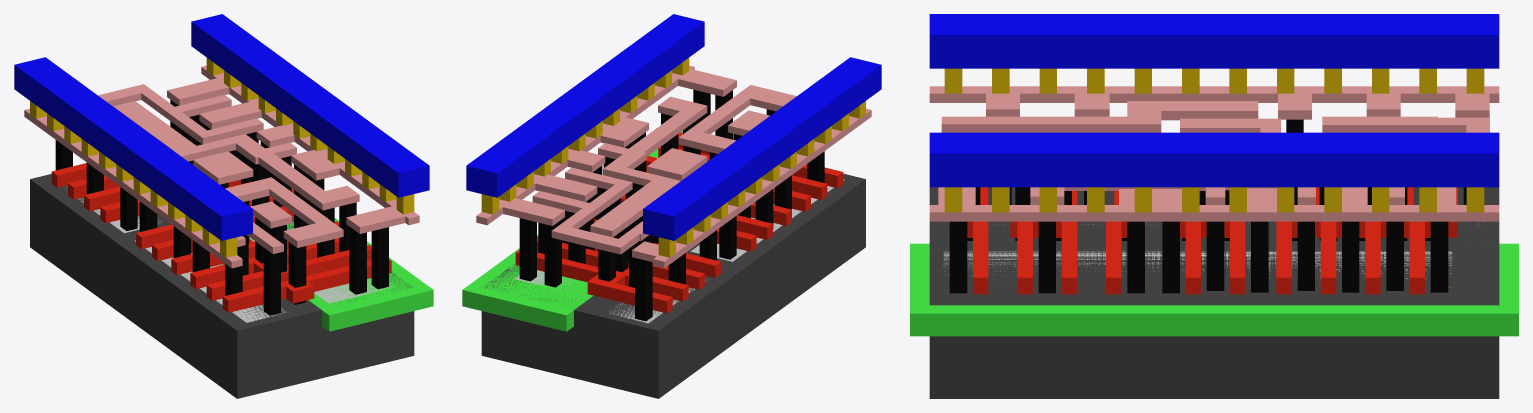
The model's file is sky130_fd_sc_hd__o21a_4.obj.
3 views of the same model, side by side, from view 1: azimuth 30°, elevation 25°; view 2: azimuth 150°, elevation 25°; view 3: azimuth 270°, elevation 25° (orthographic). The views are drawn at different scales.
Visible parts, largest first — view 1: subs, metal1, li, licon, poly, mcon, nwell, diff, tap; view 2: subs, metal1, li, licon, poly, nwell, mcon, diff; view 3: metal1, subs, li, nwell, licon, poly, mcon, tap.
Boxes of the visible parts, box(x1,y1,x2,y2) form: subs: box(30, 174, 414, 398); metal1: box(14, 14, 429, 240); li: box(24, 65, 419, 268); licon: box(55, 100, 388, 315); poly: box(51, 163, 391, 312); mcon: box(30, 58, 414, 257); nwell: box(250, 218, 433, 331); diff: box(64, 186, 285, 322); tap: box(249, 226, 392, 303); subs: box(481, 173, 865, 398); metal1: box(466, 14, 881, 240); li: box(476, 65, 871, 268); licon: box(519, 89, 824, 321); poly: box(515, 132, 843, 313); nwell: box(462, 130, 682, 331); mcon: box(481, 58, 865, 257); diff: box(609, 179, 844, 323); metal1: box(929, 14, 1499, 187); subs: box(929, 187, 1499, 398); li: box(929, 86, 1499, 221); nwell: box(910, 243, 1518, 336); licon: box(949, 119, 1466, 293); poly: box(967, 187, 1457, 294); mcon: box(944, 68, 1484, 212); tap: box(943, 251, 1452, 287).
Bounding box in the file's own units: 3.2 × 2.74 × 5.9.
